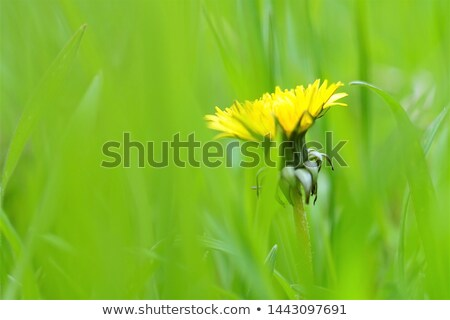dandelion: (184, 80, 362, 140)
